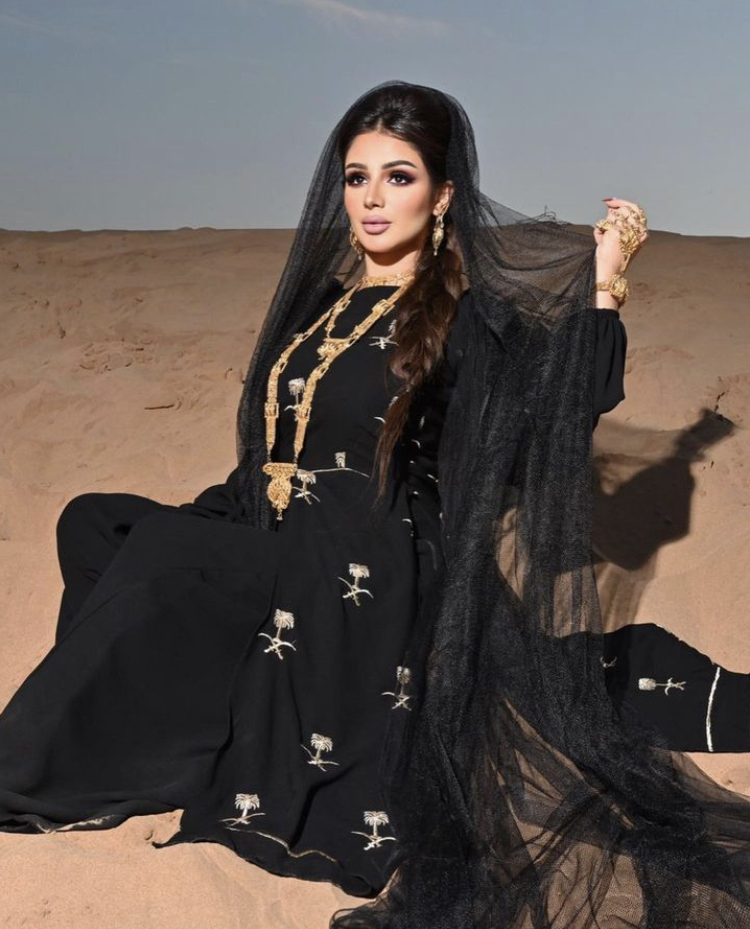Saudi_Founding_Day: (5, 75, 750, 925)
